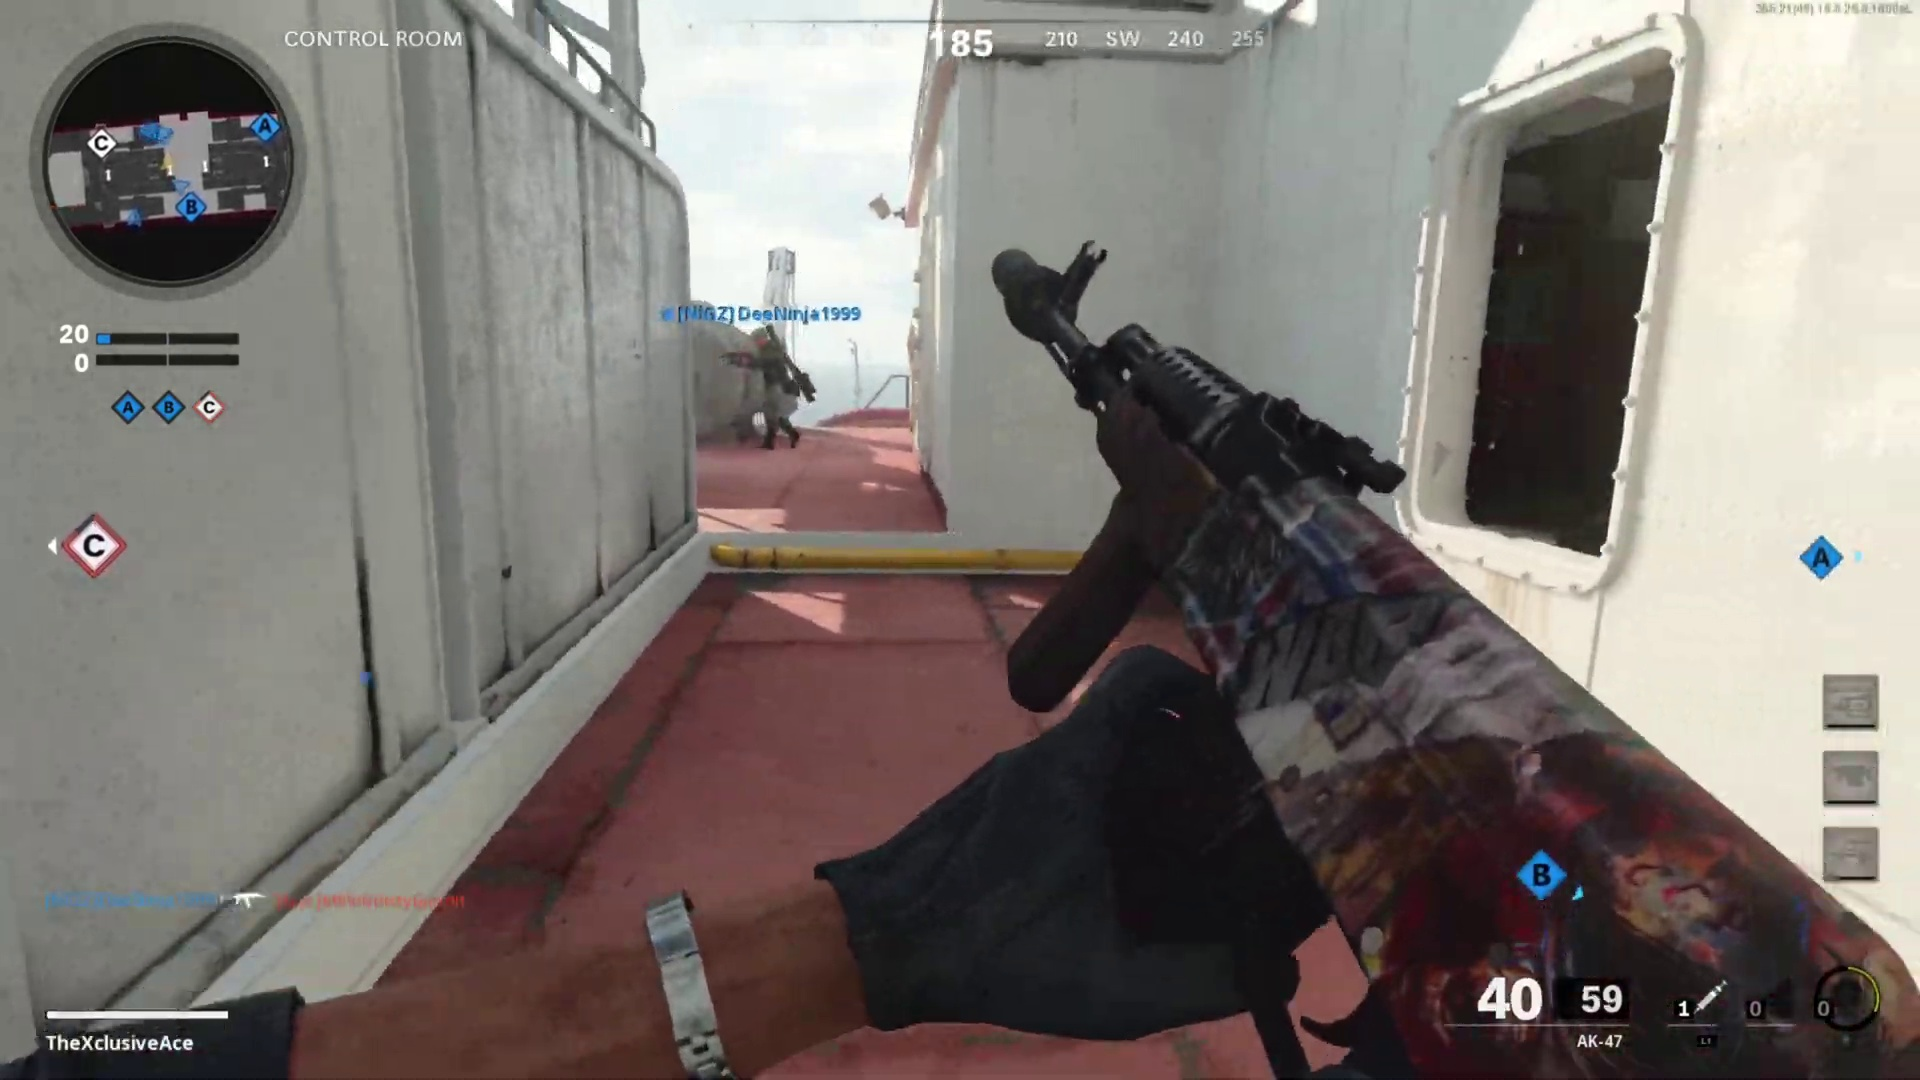head: (745, 326, 770, 353)
person: (745, 325, 811, 449)
